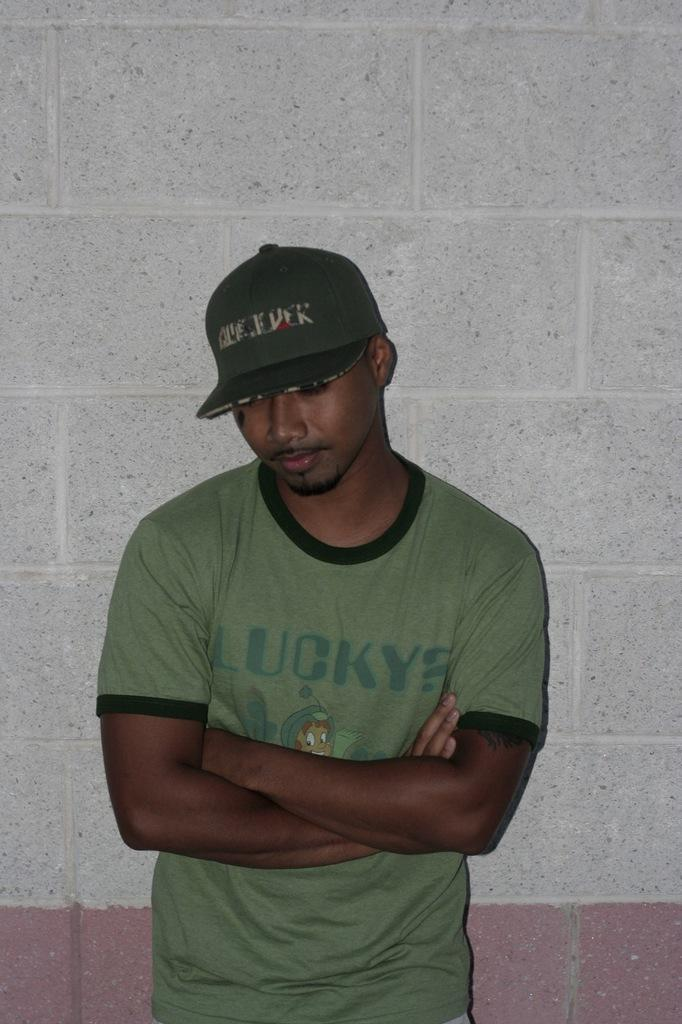Hat: (192, 239, 386, 423)
